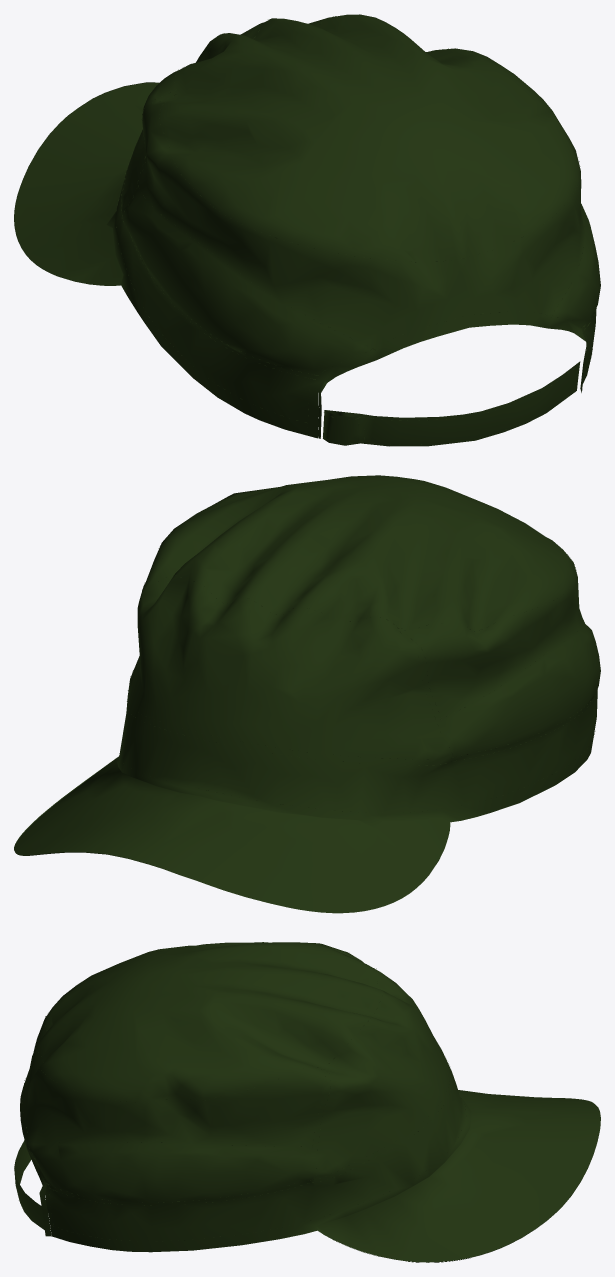
The model's file is MiliHat004.fbx.
The picture shows the model from 3 angles, top to bottom: view 1: azimuth 30°, elevation 25°; view 2: azimuth 150°, elevation 25°; view 3: azimuth 270°, elevation 25°; orthographic projection. The views are drawn at different scales.
Visible parts, largest first — view 1: Sporty Cap_fbx_thin; view 2: Sporty Cap_fbx_thin; view 3: Sporty Cap_fbx_thin.
Boxes of the visible parts, x1=… form: Sporty Cap_fbx_thin: x1=14, y1=14, x2=600, y2=446; Sporty Cap_fbx_thin: x1=14, y1=475, x2=600, y2=913; Sporty Cap_fbx_thin: x1=14, y1=942, x2=600, y2=1262.
Bounding box in the file's own units: 16.91 × 11.91 × 27.51.
